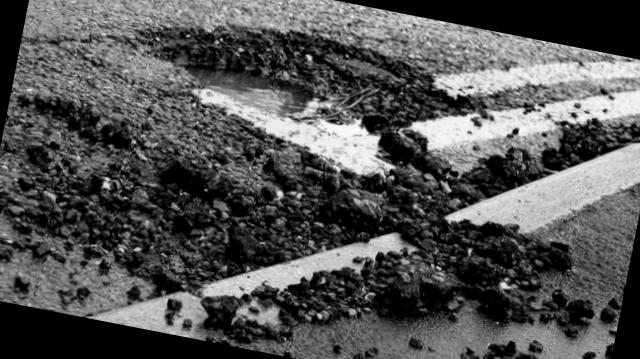Pothole: (97, 0, 514, 268)
